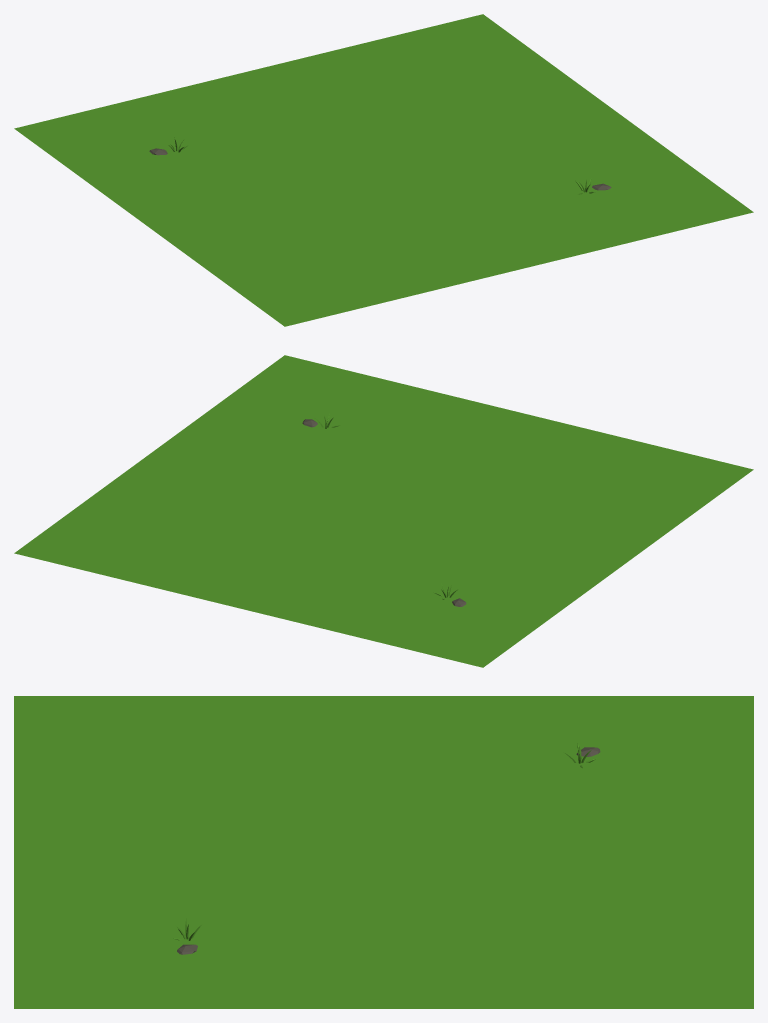
File: PlaneA.fbx
The picture shows the model from 3 angles, top to bottom: view 1: azimuth 30°, elevation 25°; view 2: azimuth 150°, elevation 25°; view 3: azimuth 270°, elevation 25°; orthographic projection. The views are drawn at different scales.
Visible parts, largest first — view 1: PlaneA; view 2: PlaneA; view 3: PlaneA.
Boxes of the visible parts, left/top/right/bottom form: PlaneA: left=14, top=14, right=753, bottom=326; PlaneA: left=14, top=355, right=753, bottom=667; PlaneA: left=14, top=696, right=753, bottom=1008.
Bounding box in the file's own units: 500 × 15.45 × 500.
